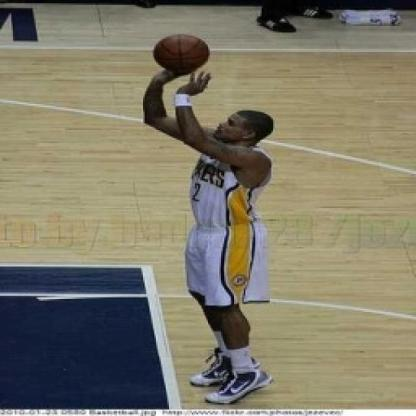basketball: (151, 29, 216, 78)
